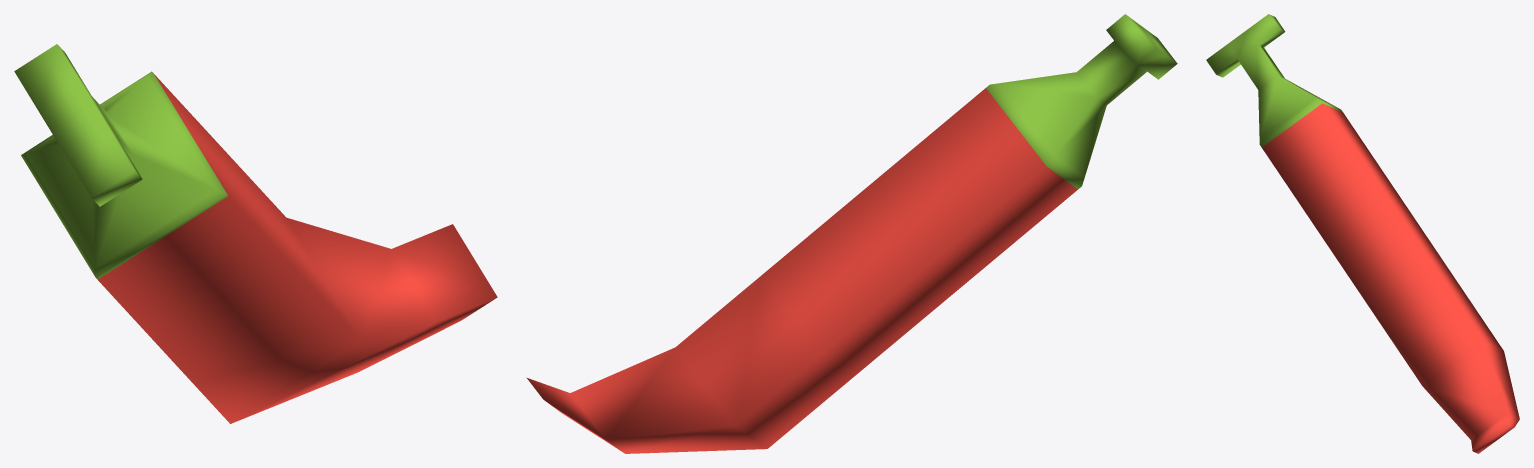
Rendered from cabe.fbx.
3 renders of one model, left to right at view 1: azimuth 30°, elevation 25°; view 2: azimuth 150°, elevation 25°; view 3: azimuth 270°, elevation 25°, orthographic. The views are drawn at different scales.
Visible parts, largest first — view 1: Cube.315; view 2: Cube.315; view 3: Cube.315.
Boxes of the visible parts, left/top/right/bottom form: Cube.315: left=14, top=44, right=497, bottom=423; Cube.315: left=526, top=14, right=1177, bottom=453; Cube.315: left=1206, top=14, right=1519, bottom=453.
Bounding box in the file's own units: 7.63 × 6.56 × 6.1.
